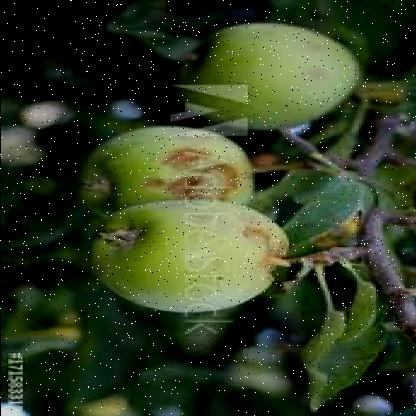apple: (192, 20, 356, 126)
damaged_apple: (85, 202, 288, 314), (82, 118, 252, 223)
